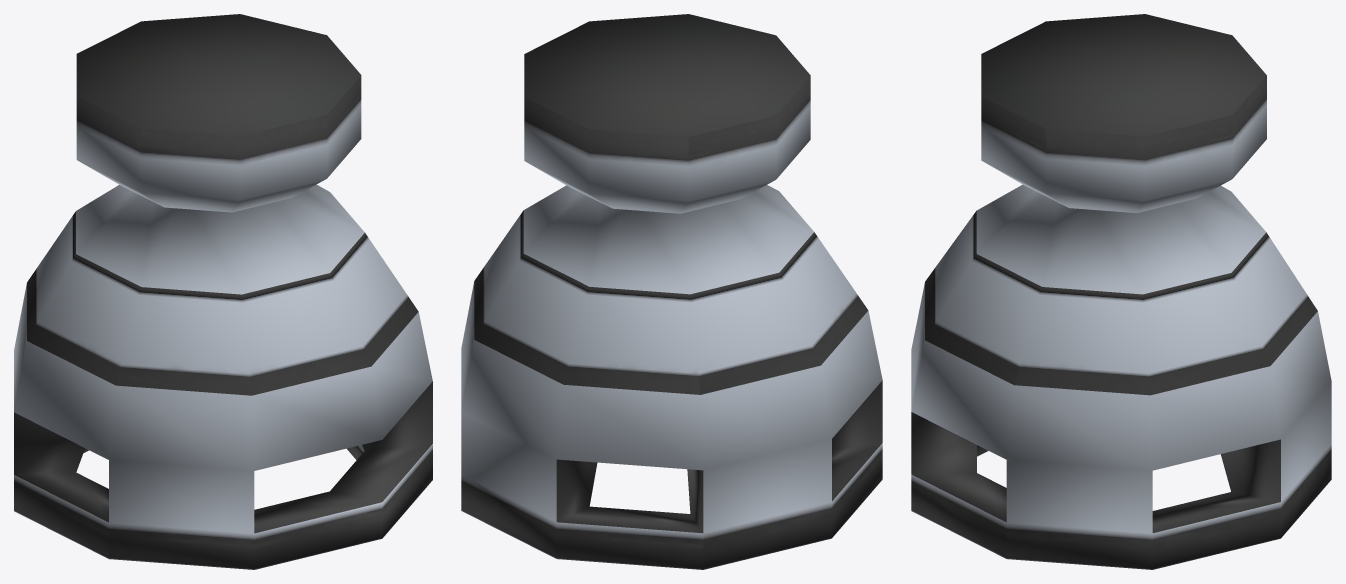
File: Light.001.fbx
3 views of the same model, side by side, from view 1: azimuth 30°, elevation 25°; view 2: azimuth 150°, elevation 25°; view 3: azimuth 270°, elevation 25° (orthographic).
Parts seen in each view (by area): view 1: Light.001; view 2: Light.001; view 3: Light.001.
Part boxes in pixels (x1,y1,x2,y2): Light.001: (14,14,432,569); Light.001: (461,14,882,569); Light.001: (911,14,1331,569).
Size of the model in its own units: 197 by 210 by 194.
